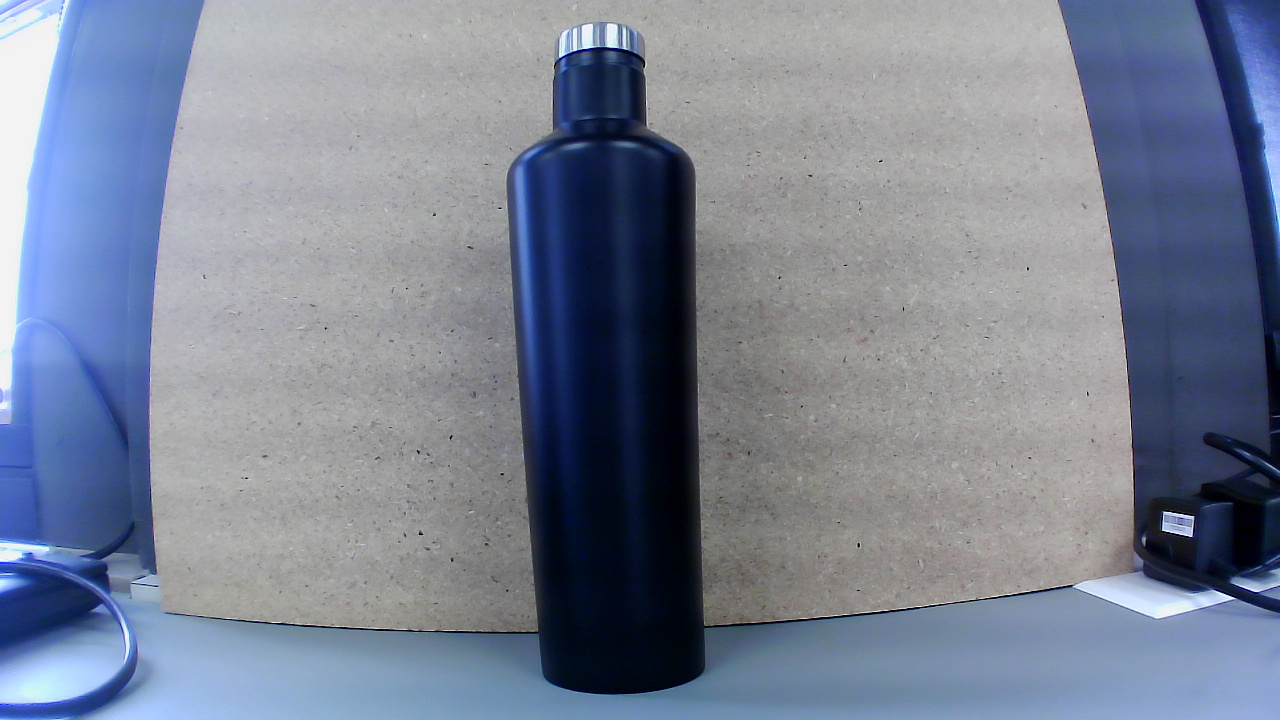neobottle: (499, 18, 723, 700)
